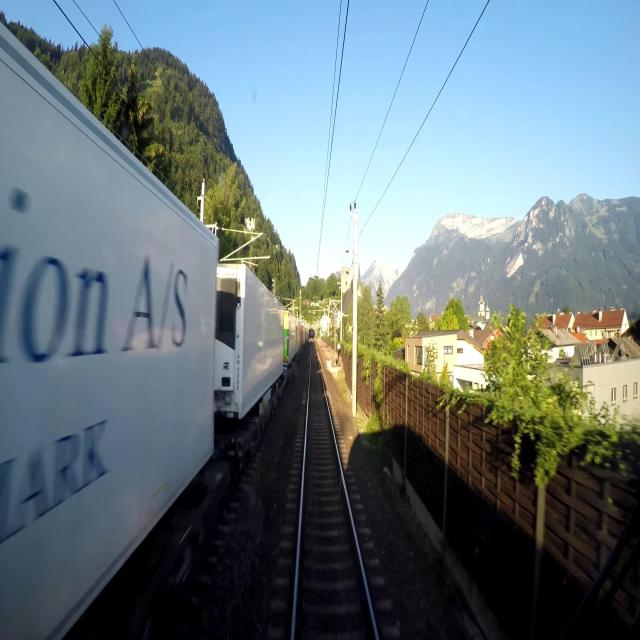rail-track: (295, 346, 374, 639)
